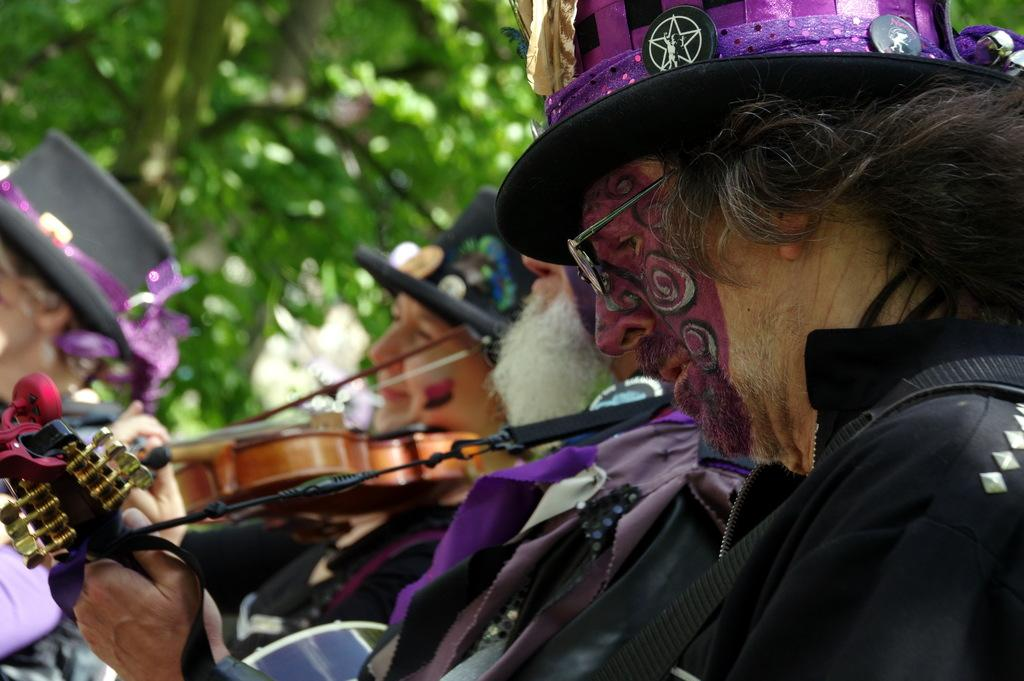Hat: (498, 0, 1023, 266), (0, 124, 175, 410), (354, 187, 538, 344)
